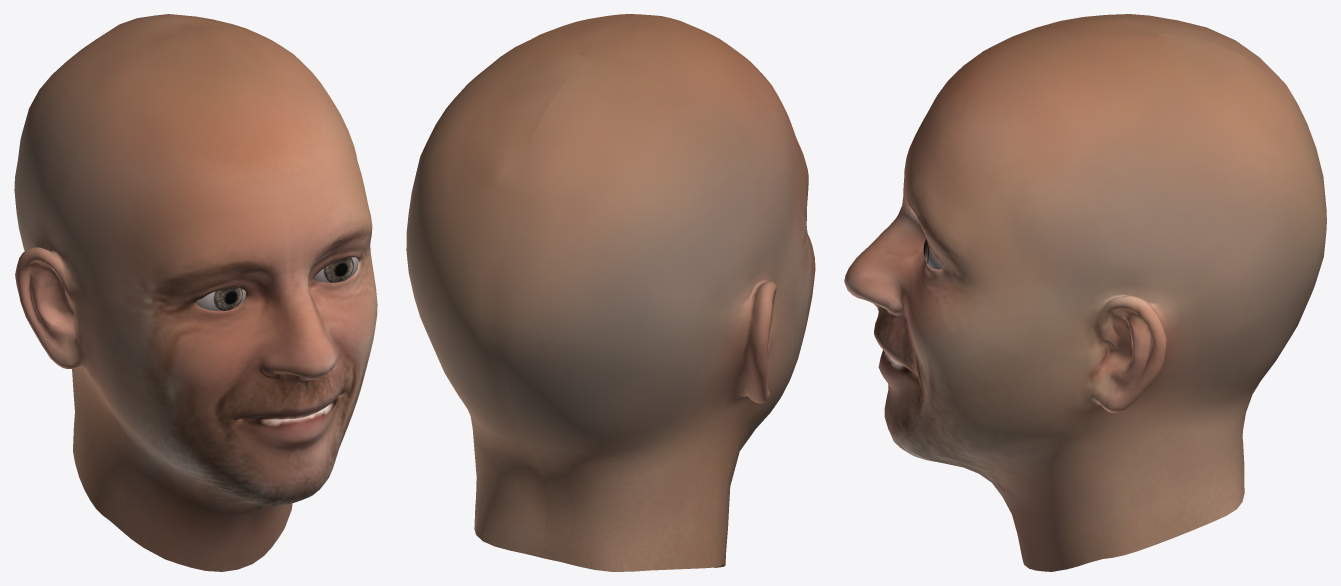
File: HeadObject.fbx
3 views of the same model, side by side, from view 1: azimuth 30°, elevation 25°; view 2: azimuth 150°, elevation 25°; view 3: azimuth 270°, elevation 25° (orthographic). The views are drawn at different scales.
Parts seen in each view (by area): view 1: Head; view 2: Head; view 3: Head.
Part boxes in pixels (x1,y1,x2,y2): Head: (14, 14, 377, 571); Head: (406, 14, 815, 571); Head: (844, 14, 1326, 571).
Size of the model in its own units: 0.1678 by 0.2502 by 0.2059.
Materials: 1 (1 with a texture image).
